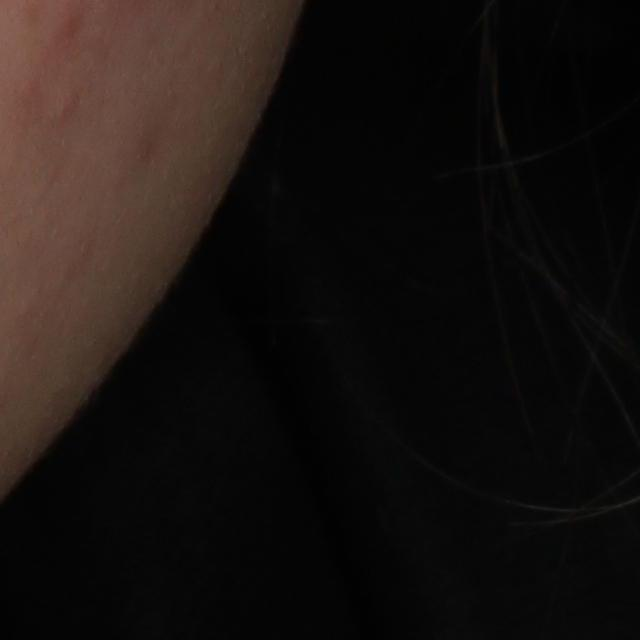papule: (50, 6, 83, 42)
